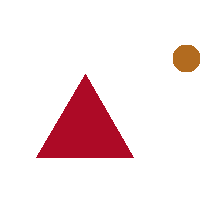circle: (173, 45, 199, 71)
triangle: (36, 74, 133, 157)
